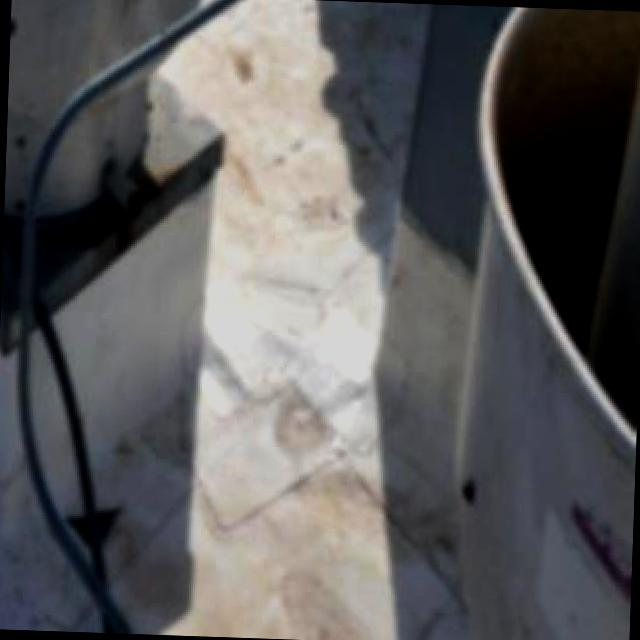GRAVITY-VENT: (0, 0, 247, 363)
